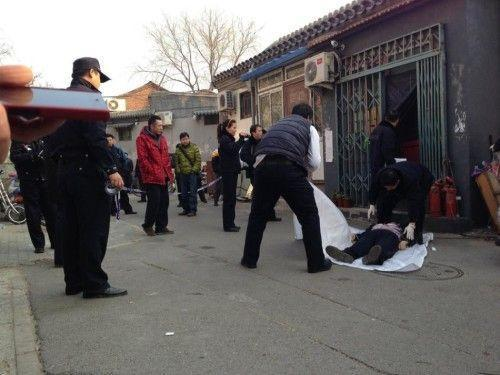Fall-Detected: (322, 210, 423, 269)
